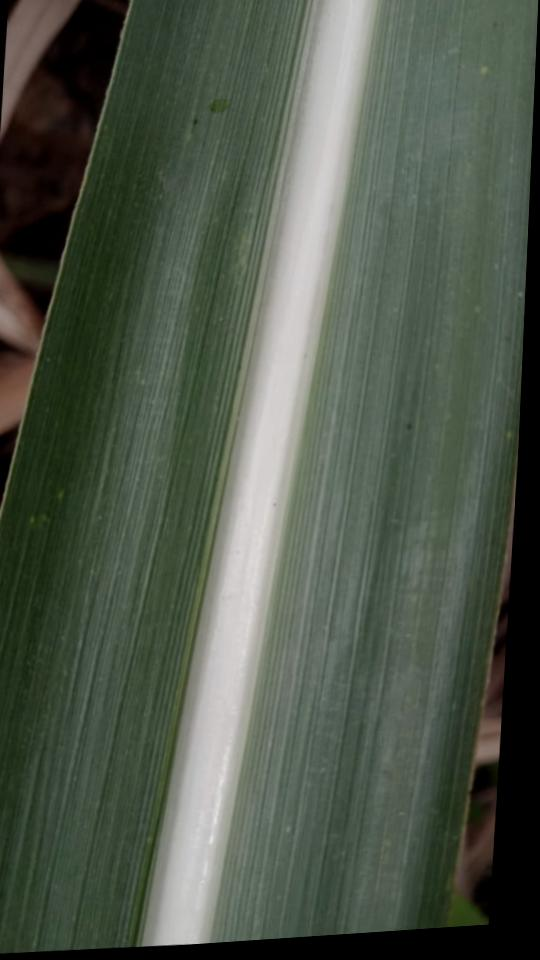Healthy: (0, 0, 538, 952)
